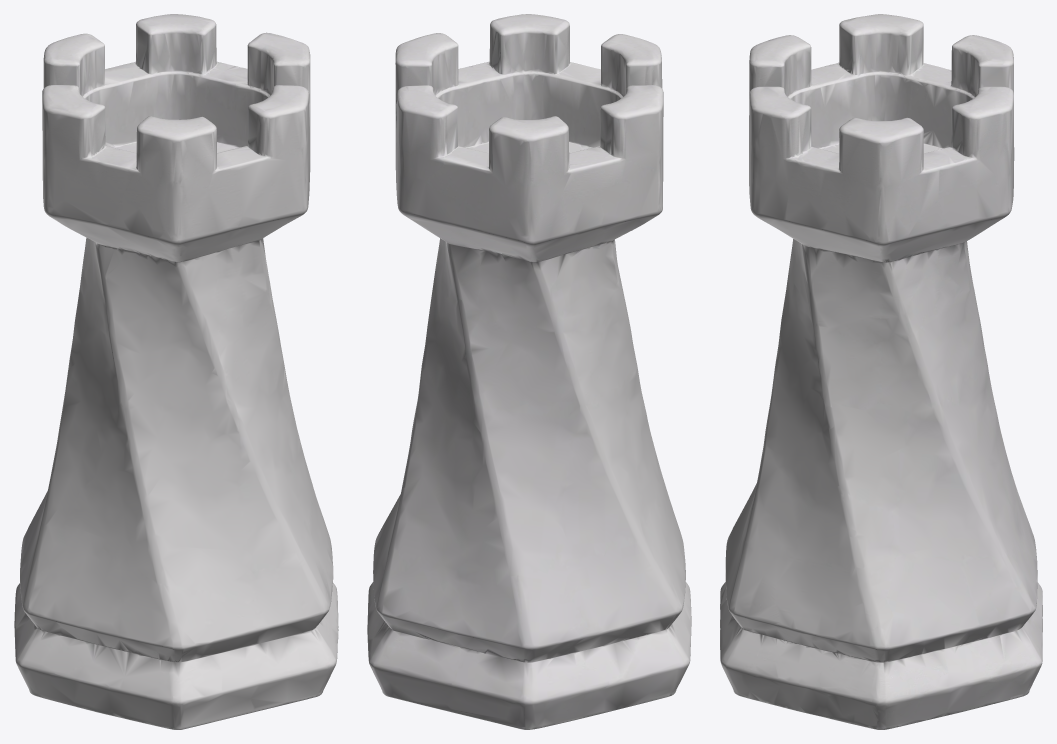
The model's file is rook-white-hd.glb.
3 renders of one model, left to right at view 1: azimuth 30°, elevation 25°; view 2: azimuth 150°, elevation 25°; view 3: azimuth 270°, elevation 25°, orthographic.
Bounding box in the file's own units: 0.6207 × 1.1 × 0.549.
1 material, 1 textured.
